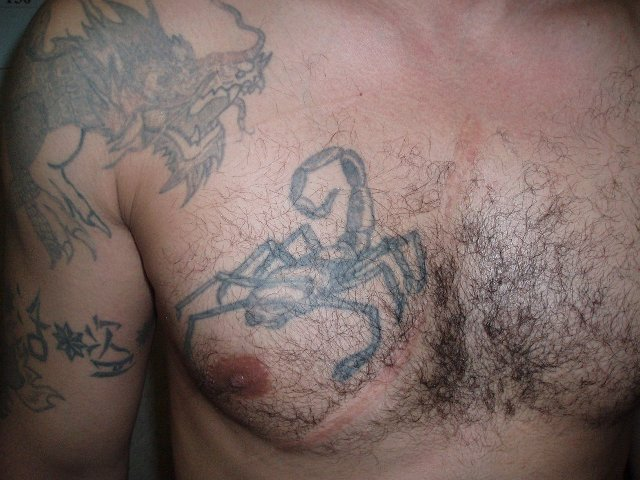tatu6_drakon: (4, 5, 278, 234)
